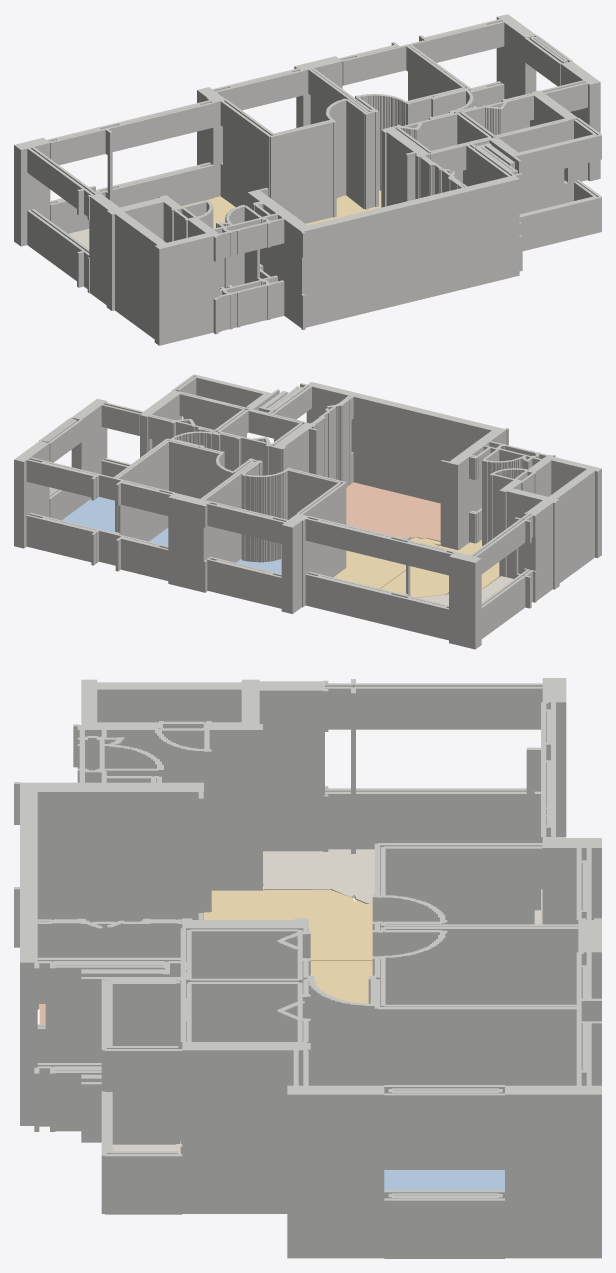
3 views of the same model, one above another, from view 1: azimuth 30°, elevation 25°; view 2: azimuth 150°, elevation 25°; view 3: azimuth 270°, elevation 25° (orthographic). The views are drawn at different scales.
Parts seen in each view (by area): view 1: walls, room:living:10; view 2: walls, room:kitchen:2, room:living:9, room:living:10, room:bedroom:8, room:other:12; view 3: walls, room:living:9, room:other:12, room:bedroom:8, room:living:10.
Part boxes in pixels (x1,y1,x2,y2): walls: (14, 14, 601, 345); room:living:10: (182, 190, 381, 228); walls: (14, 374, 601, 649); room:kitchen:2: (346, 482, 440, 541); room:living:9: (381, 540, 499, 597); room:living:10: (333, 537, 440, 588); room:bedroom:8: (62, 497, 114, 532); room:other:12: (418, 576, 513, 605); walls: (14, 678, 601, 1258); room:living:9: (204, 889, 372, 960); room:other:12: (263, 849, 540, 924); room:bedroom:8: (384, 1170, 504, 1189); room:living:10: (310, 960, 372, 1003).
Bounding box in the file's own units: 15.32 × 2.8 × 9.12.
